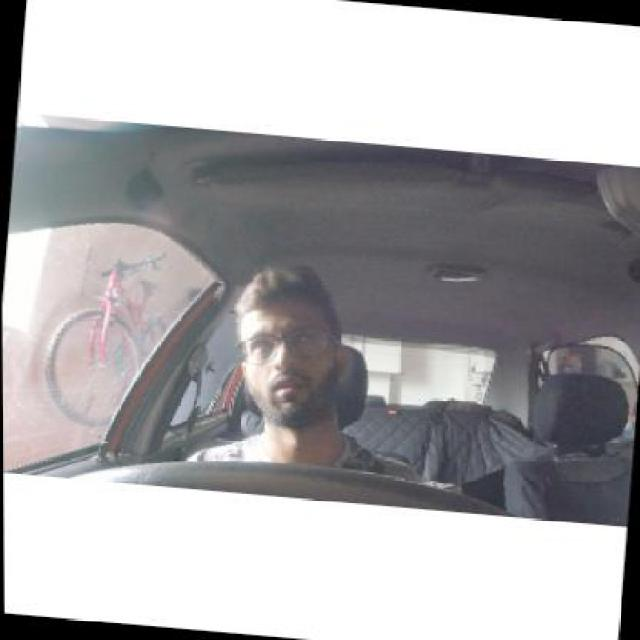person: (228, 257, 360, 438)
